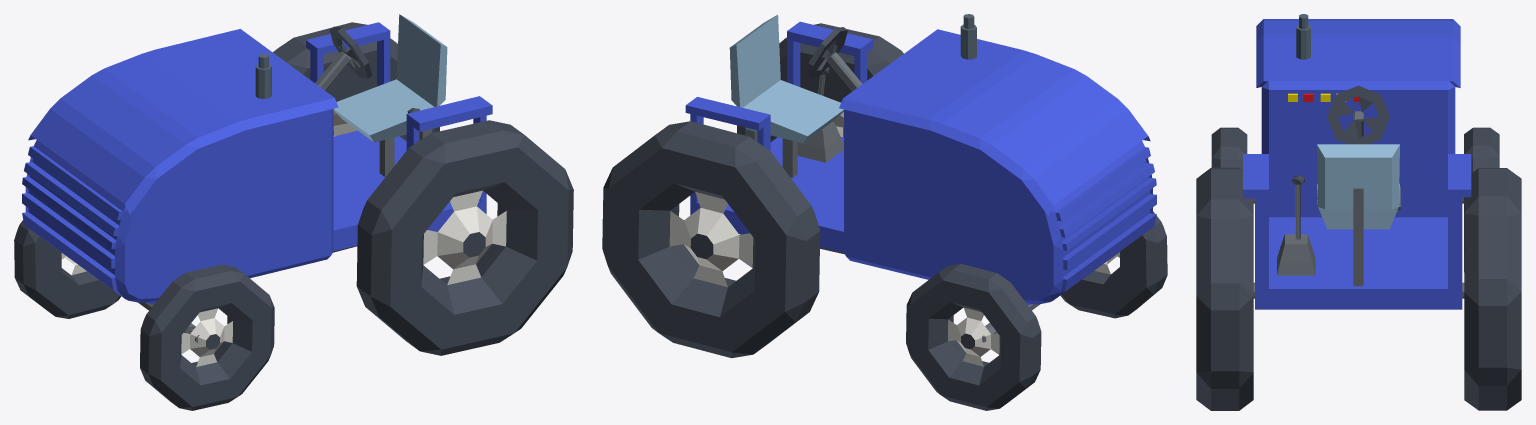
File: farm-tractor.obj
3 renders of one model, left to right at view 1: azimuth 30°, elevation 25°; view 2: azimuth 150°, elevation 25°; view 3: azimuth 270°, elevation 25°, orthographic.
Parts seen in each view (by area): view 1: farm-tractor; view 2: farm-tractor; view 3: farm-tractor.
Part boxes in pixels (<box>): farm-tractor: <box>14,14,573,410</box>; farm-tractor: <box>602,14,1167,410</box>; farm-tractor: <box>1196,14,1521,410</box>.
Size of the model in its own units: 1.56 by 1.03 by 1.01.
